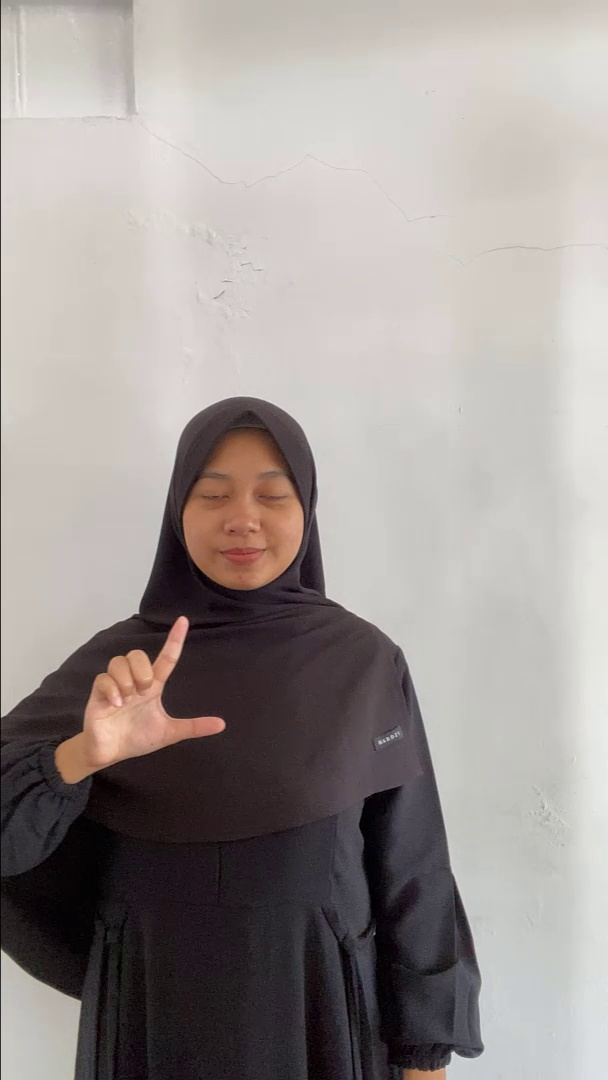SELASA: (38, 616, 225, 769)
